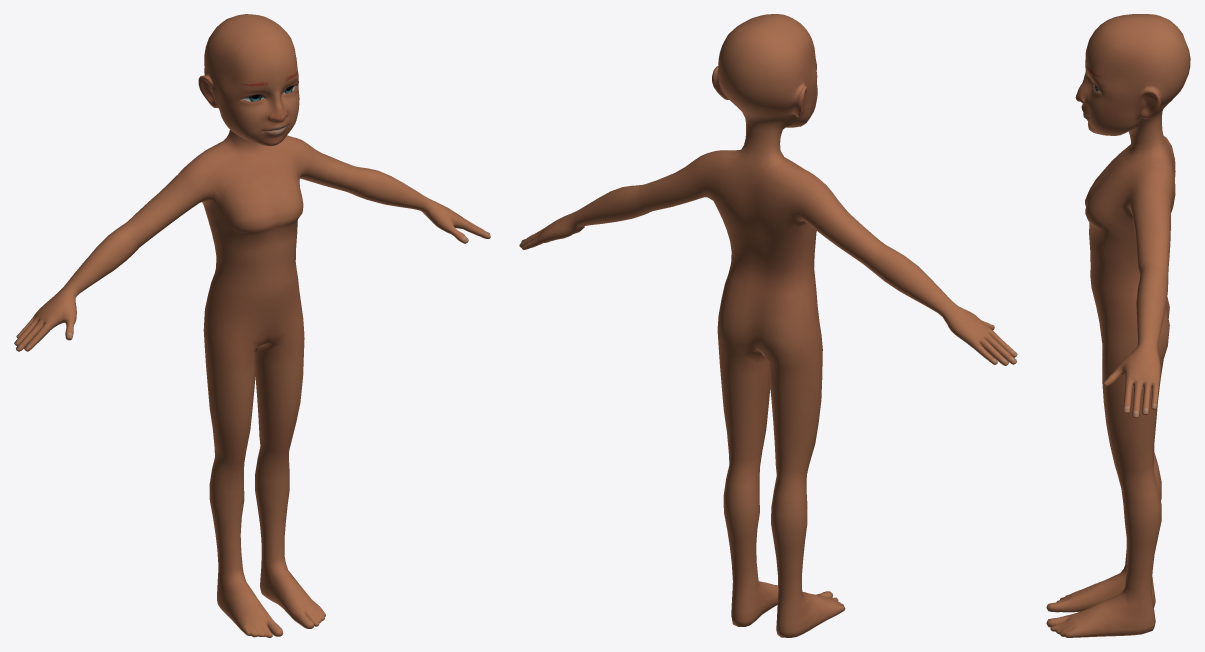
File: frame_0062.glb
3 views of the same model, side by side, from view 1: azimuth 30°, elevation 25°; view 2: azimuth 150°, elevation 25°; view 3: azimuth 270°, elevation 25° (orthographic). The views are drawn at different scales.
Parts seen in each view (by area): view 1: frame_0062_head_geo; view 2: frame_0062_head_geo; view 3: frame_0062_head_geo.
Part boxes in pixels (left/top/right/bottom): frame_0062_head_geo: left=14, top=14, right=490, bottom=637; frame_0062_head_geo: left=519, top=14, right=1017, bottom=637; frame_0062_head_geo: left=1046, top=14, right=1190, bottom=637.
Bounding box in the file's own units: 1.28 × 1.5 × 0.3253.
Materials: 3 (3 with a texture image).
